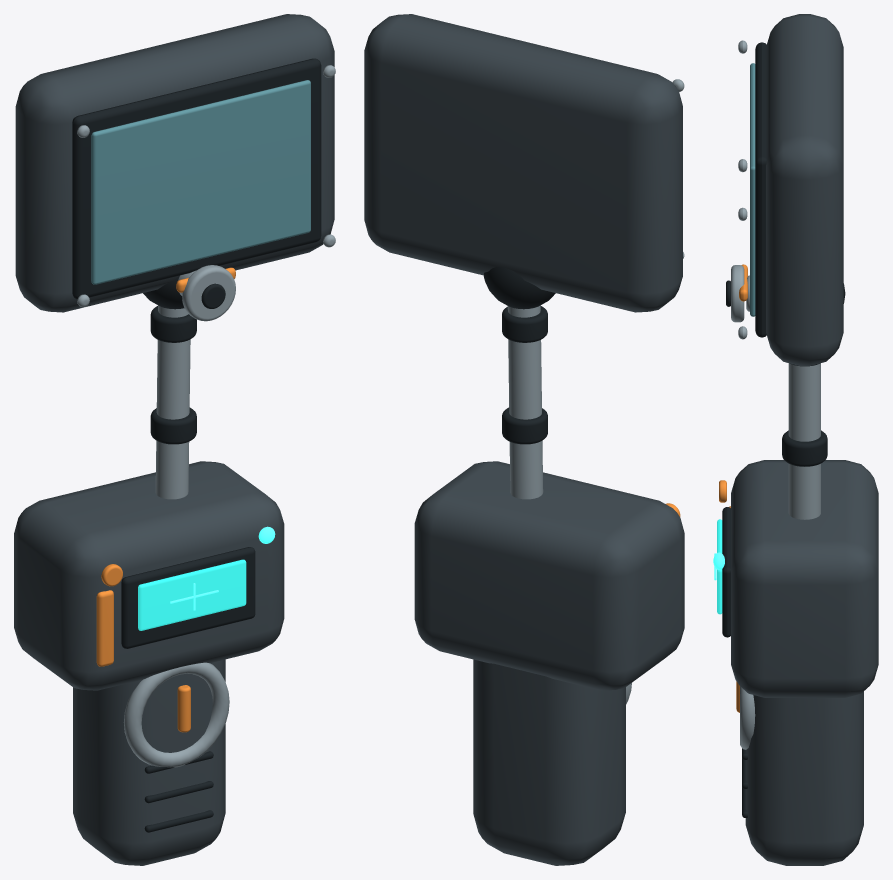
The model's file is MirrorPeekTool.fbx.
3 renders of one model, left to right at view 1: azimuth 30°, elevation 25°; view 2: azimuth 150°, elevation 25°; view 3: azimuth 270°, elevation 25°, orthographic.
Parts seen in each view (by area): view 1: MP_Tool receiver, MP_Reflective glass, MP_Mirror housing, MP_Grip core, MP_Mirror backing, MP_Preview screen, MP_Front control panel, MP_Telescoping neck, MP_Trigger guard, MP_Swivel dial, MP_Safety stripe, MP_Neck locking collar (+3 smaller); view 2: MP_Mirror housing, MP_Tool receiver, MP_Grip core, MP_Telescoping neck, MP_Head hinge, MP_Neck locking collar.001, MP_Neck locking collar; view 3: MP_Tool receiver, MP_Mirror housing, MP_Grip core, MP_Telescoping neck, MP_Mirror backing, MP_Reflective glass, MP_Neck locking collar, MP_Front control panel, MP_Trigger guard, MP_Swivel dial, MP_Preview screen.
Boxes of the visible parts, <box> form: MP_Tool receiver: <box>14,461,284,690</box>; MP_Reflective glass: <box>91,80,310,284</box>; MP_Mirror housing: <box>15,14,334,312</box>; MP_Grip core: <box>73,659,225,865</box>; MP_Mirror backing: <box>72,58,321,299</box>; MP_Preview screen: <box>138,559,246,630</box>; MP_Front control panel: <box>121,547,255,648</box>; MP_Telescoping neck: <box>155,305,190,499</box>; MP_Trigger guard: <box>123,662,229,767</box>; MP_Swivel dial: <box>182,265,235,321</box>; MP_Safety stripe: <box>96,590,113,666</box>; MP_Neck locking collar: <box>150,407,196,444</box>; MP_Mirror housing: <box>364,14,682,312</box>; MP_Tool receiver: <box>414,461,684,690</box>; MP_Grip core: <box>473,659,625,865</box>; MP_Telescoping neck: <box>507,305,543,499</box>; MP_Head hinge: <box>483,267,555,309</box>; MP_Neck locking collar.001: <box>502,306,547,342</box>; MP_Neck locking collar: <box>502,407,547,444</box>; MP_Tool receiver: <box>731,460,878,697</box>; MP_Mirror housing: <box>766,14,843,365</box>; MP_Grip core: <box>745,691,863,865</box>; MP_Telescoping neck: <box>788,363,820,519</box>; MP_Mirror backing: <box>755,42,767,337</box>; MP_Reflective glass: <box>750,63,755,316</box>; MP_Neck locking collar: <box>782,430,827,466</box>; MP_Front control panel: <box>722,507,730,637</box>; MP_Trigger guard: <box>740,686,755,749</box>; MP_Swivel dial: <box>731,265,744,322</box>; MP_Preview screen: <box>717,519,722,614</box>.
Size of the model in its own units: 47 by 118 by 22.4.
